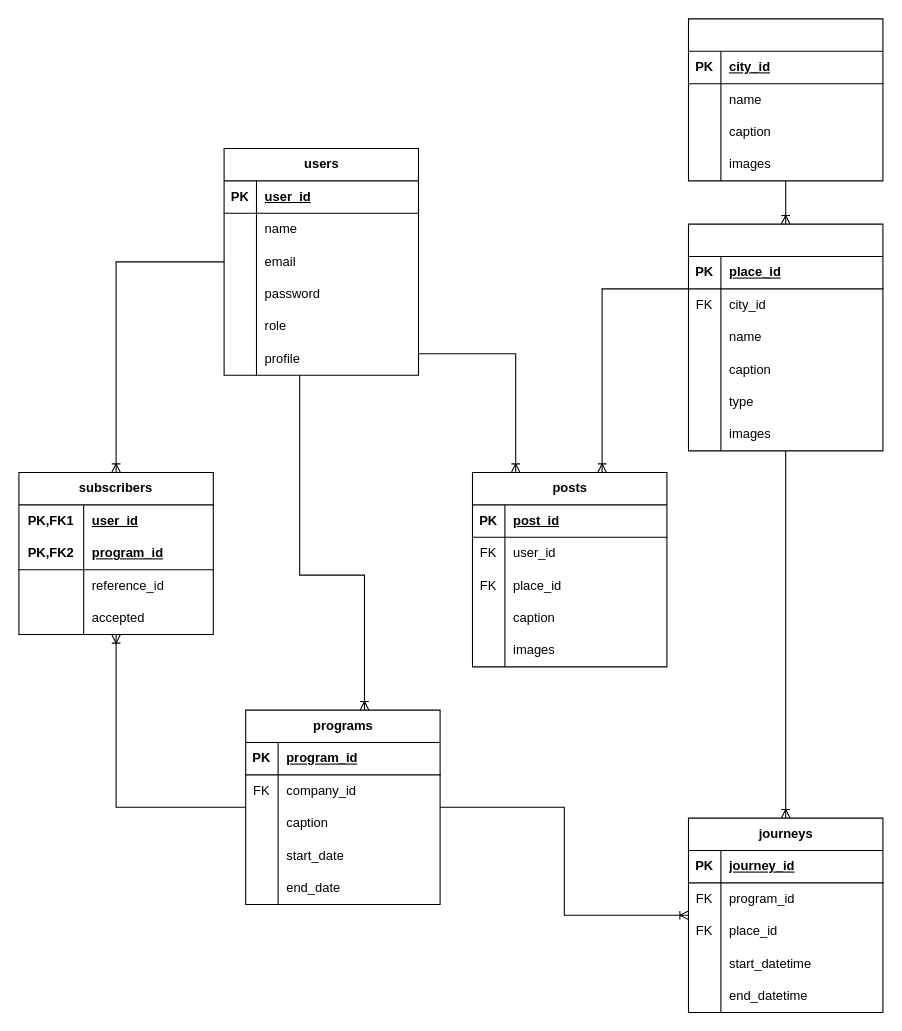
This 902x1031 diagram has some shape labels left out. The box of each missing label's shape, as (x1, y1, x2, y2) in pixels:
cities: (687, 18, 883, 181)
places: (687, 223, 883, 451)
